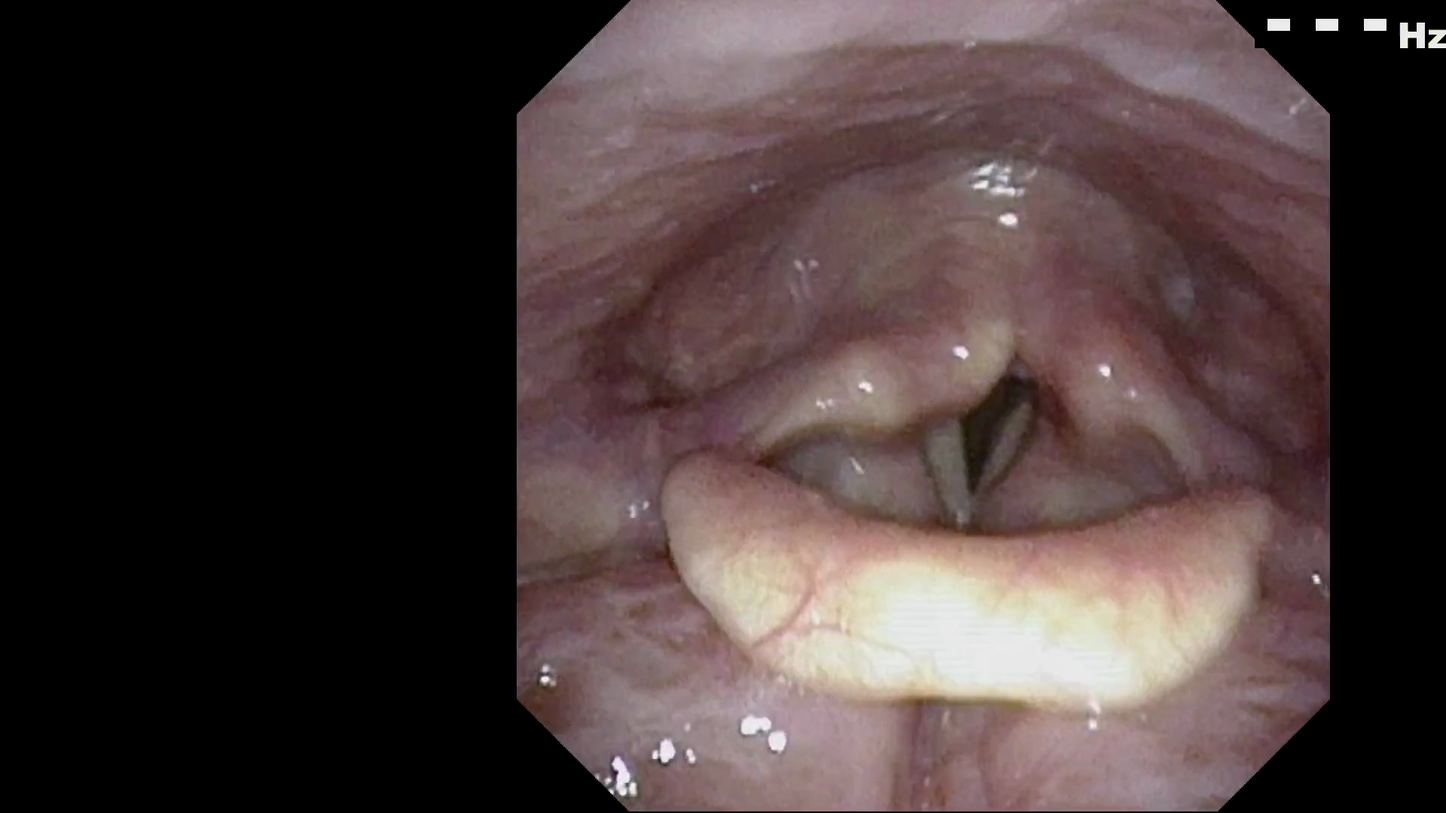epiglottis: (670, 444, 1273, 724)
trachea: (896, 347, 1062, 519)
